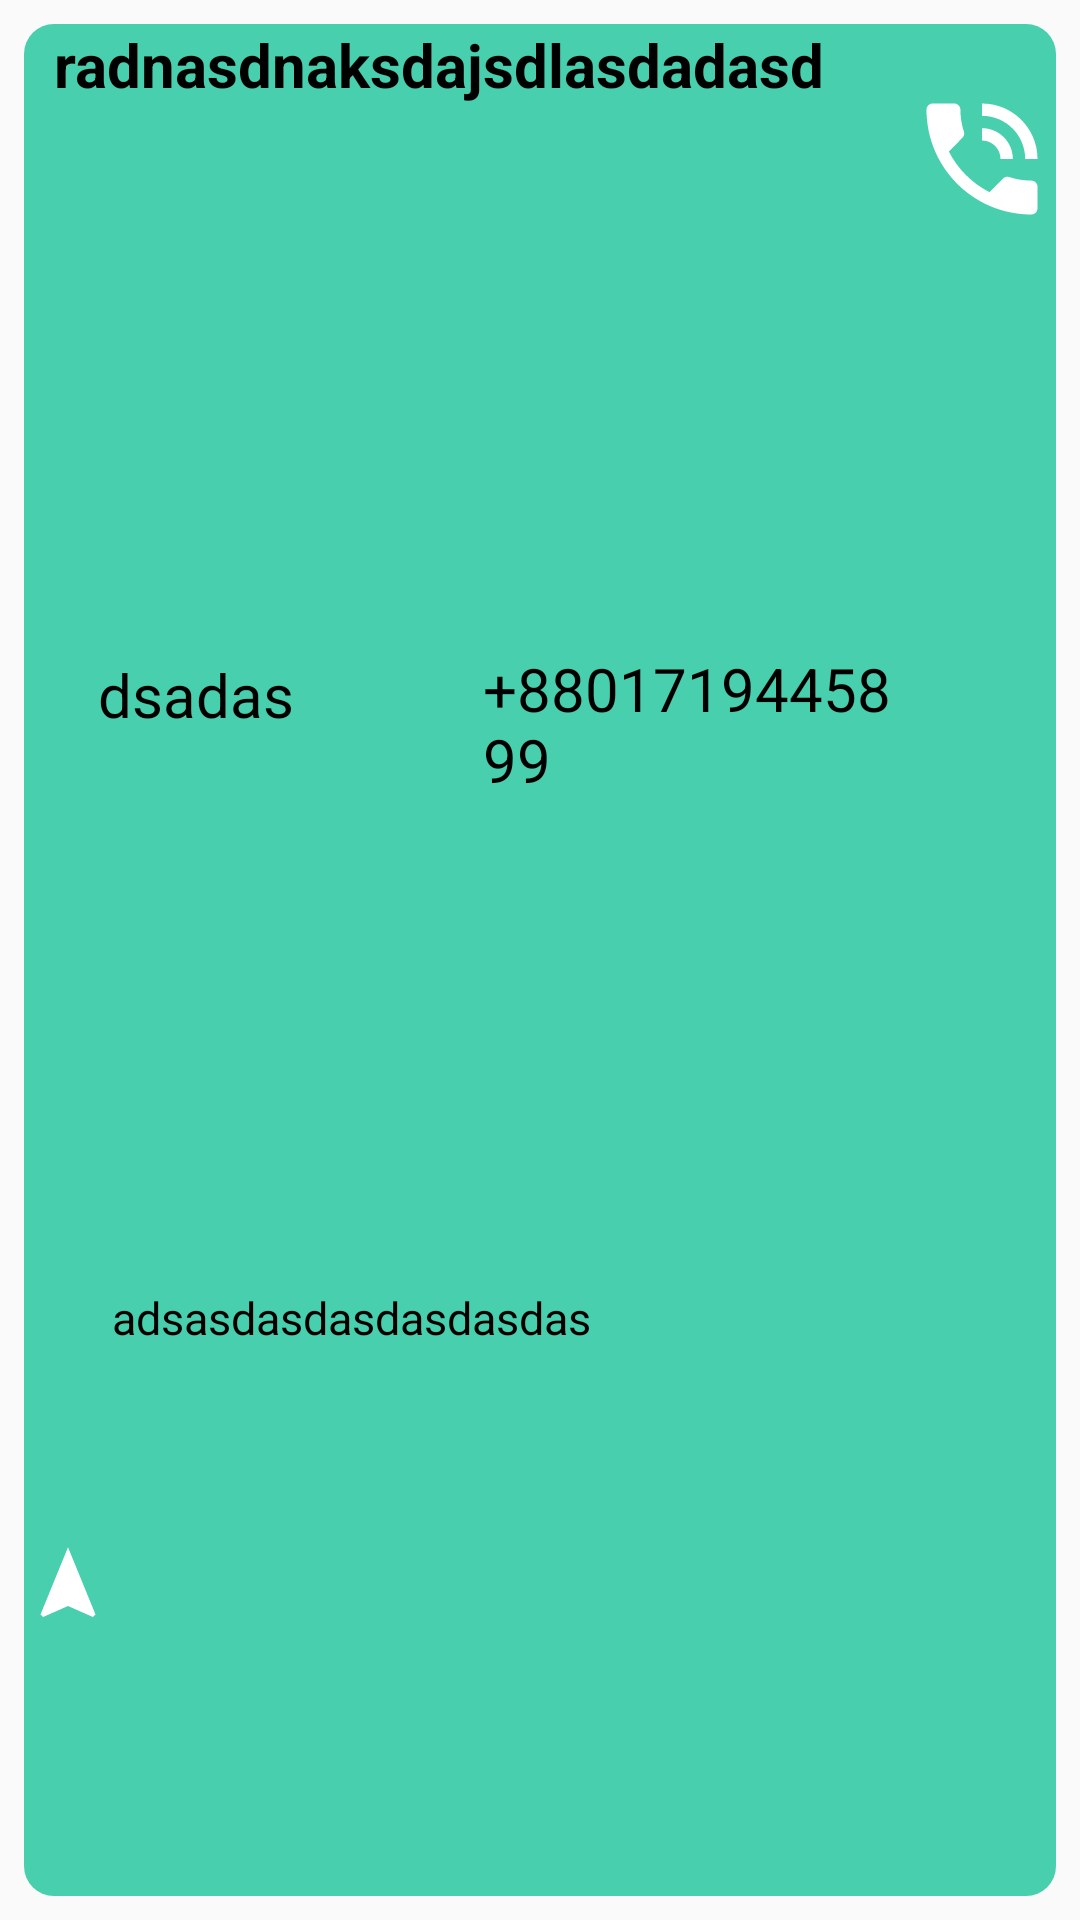

Locate icon controls on the screen. Image size 1080w x 1920h, boxes as (x1, y1, x2, y2).
navigation: (40, 1548, 96, 1617)
phone in talk: (926, 103, 1038, 215)
